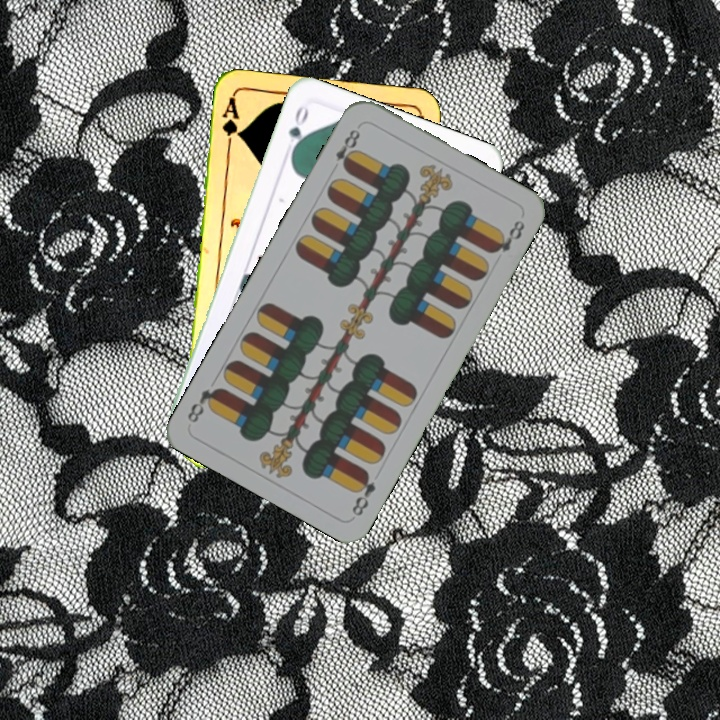E8: (347, 467, 379, 519), (331, 125, 363, 173)
GA: (218, 93, 244, 153)
GO: (284, 102, 312, 159)
